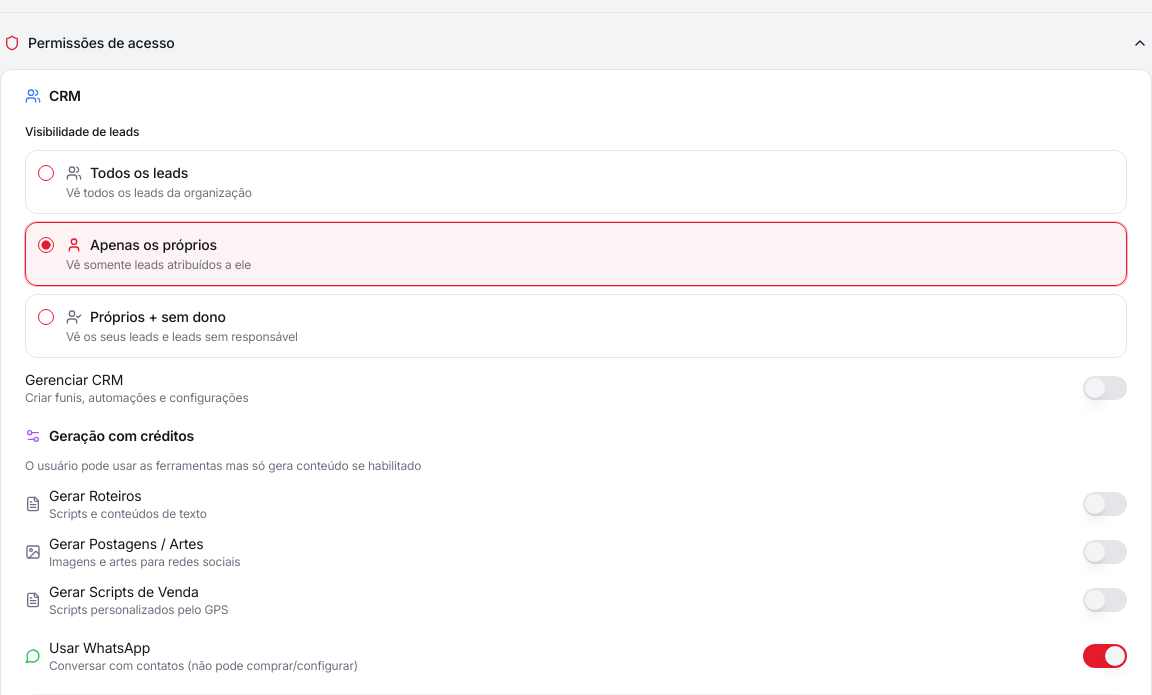
Test case: MemberPermissionsEditor › toggle collapsed/expanded funciona ao clicar no header
Expected: the text "Gerar Roteiros" is shown, [49,487,142,504]
Click the button "Permissões de acesso".
click(101, 42)  # box [0,25,1151,61]
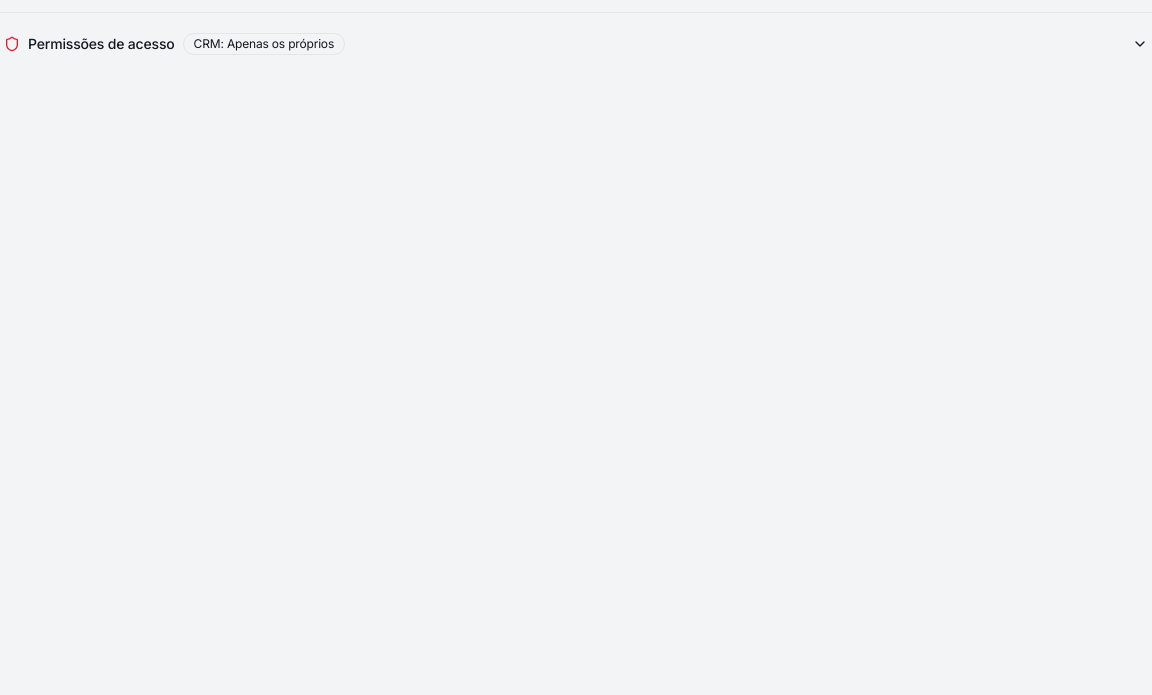
Expected: the text "Gerar Roteiros" is gone
Expande de volta
Click the button "Permissões de acesso CRM: Apenas os próprios".
click(101, 44)  # box [0,25,1151,63]
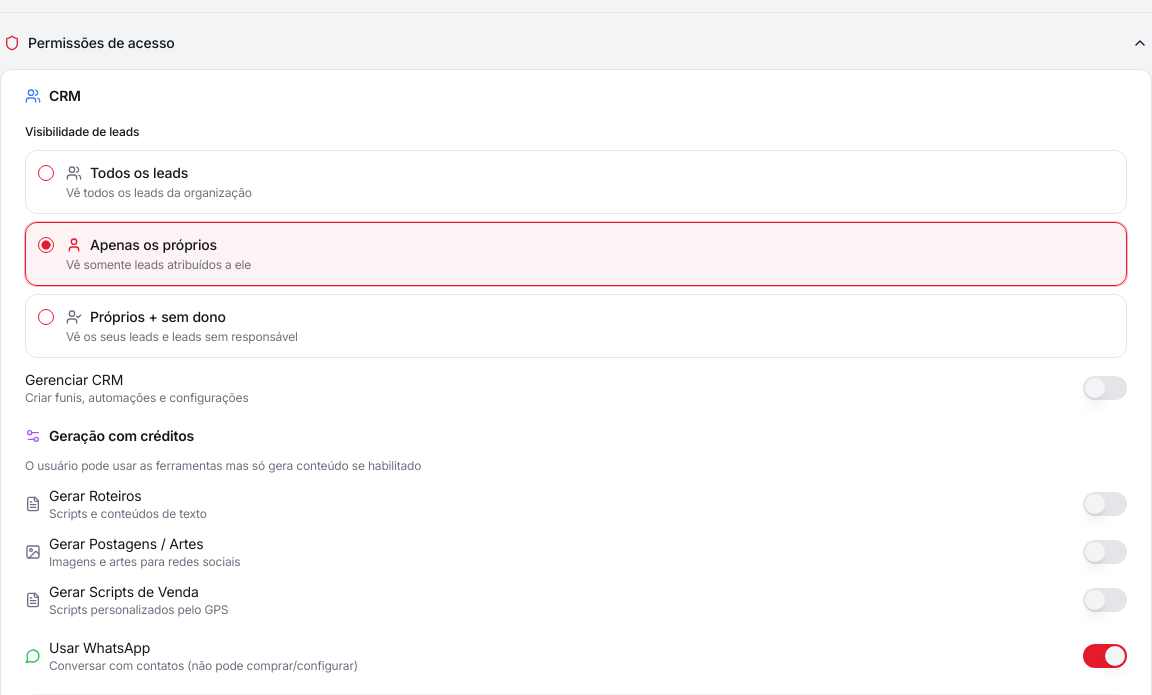
Expected: the text "Gerar Roteiros" is shown, [49,487,142,504]
